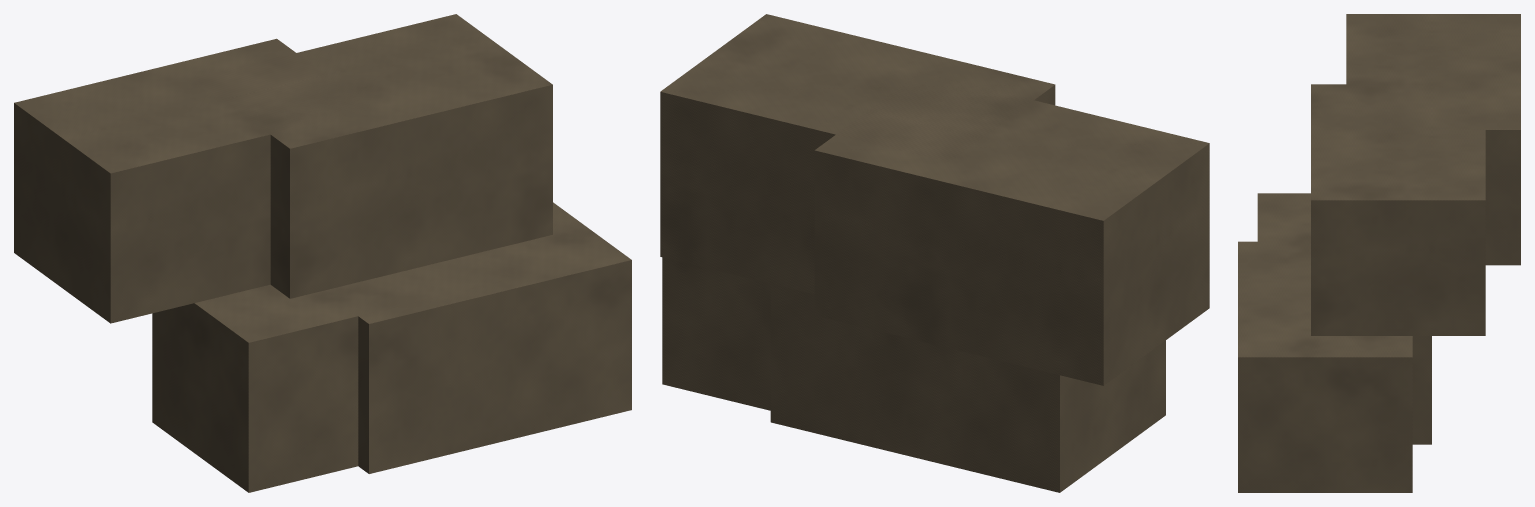
The model's file is A_bales.glb.
3 renders of one model, left to right at view 1: azimuth 30°, elevation 25°; view 2: azimuth 150°, elevation 25°; view 3: azimuth 270°, elevation 25°, orthographic. The views are drawn at different scales.
Parts seen in each view (by area): view 1: A_bales; view 2: A_bales; view 3: A_bales.
Boxes of the visible parts, x1=… form: A_bales: x1=14, y1=14, x2=631, y2=492; A_bales: x1=660, y1=14, x2=1209, y2=492; A_bales: x1=1238, y1=14, x2=1520, y2=492.
Size of the model in its own units: 1.93 by 1.22 by 1.13.
1 material, 1 textured.
